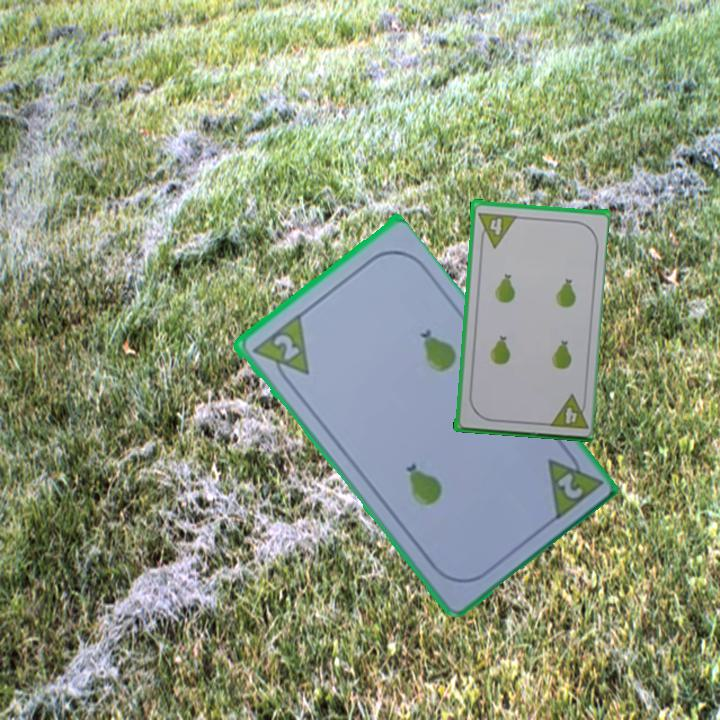2p: (268, 330, 302, 364), (552, 469, 586, 502)
4p: (544, 390, 589, 432), (474, 208, 518, 249)
